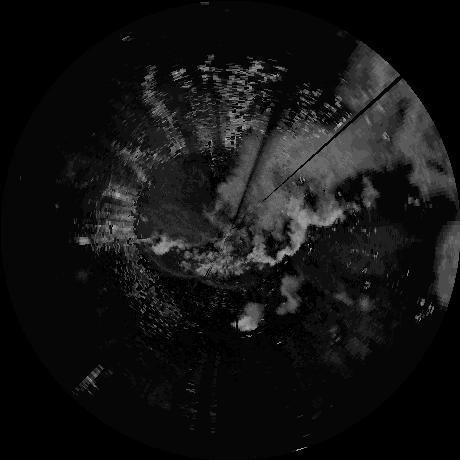frontgust: (144, 249, 198, 279), (204, 280, 240, 291)
